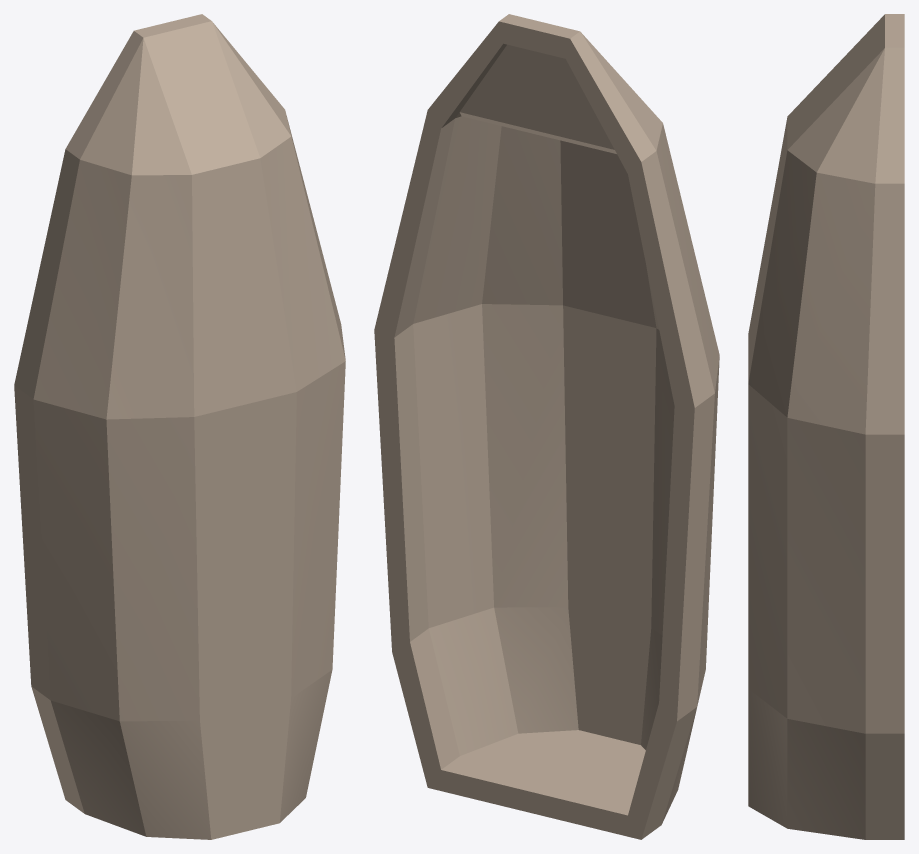
The model's file is object4_021-col.gltf.
3 renders of one model, left to right at view 1: azimuth 30°, elevation 25°; view 2: azimuth 150°, elevation 25°; view 3: azimuth 270°, elevation 25°, orthographic. The views are drawn at different scales.
Visible parts, largest first — view 1: object4.021-col; view 2: object4.021-col; view 3: object4.021-col.
Part boxes in pixels (x1,y1,x2,y2): object4.021-col: (14,14,345,839); object4.021-col: (374,14,719,839); object4.021-col: (748,14,904,839).
Bounding box in the file's own units: 1.07 × 2.5 × 0.4662.
